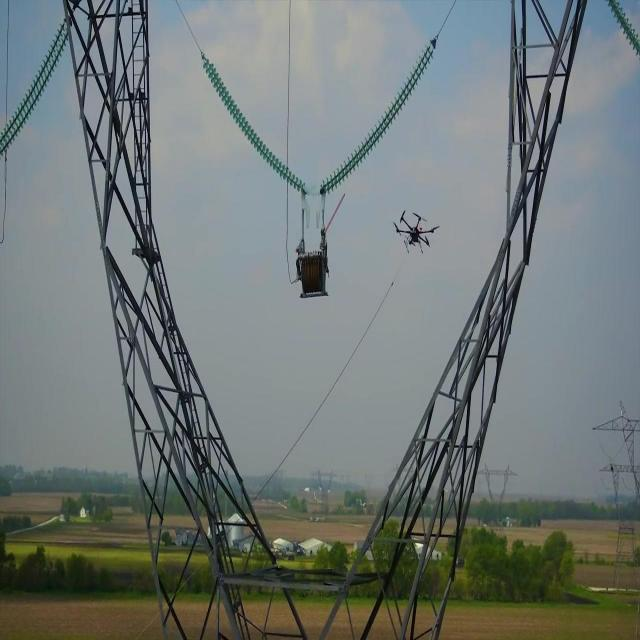UAV: (392, 210, 440, 253)
